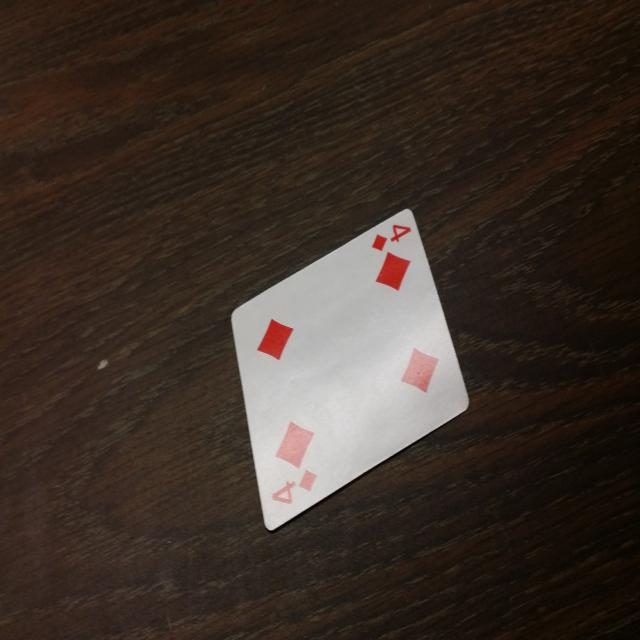4d: (265, 464, 320, 528), (364, 218, 414, 260)
